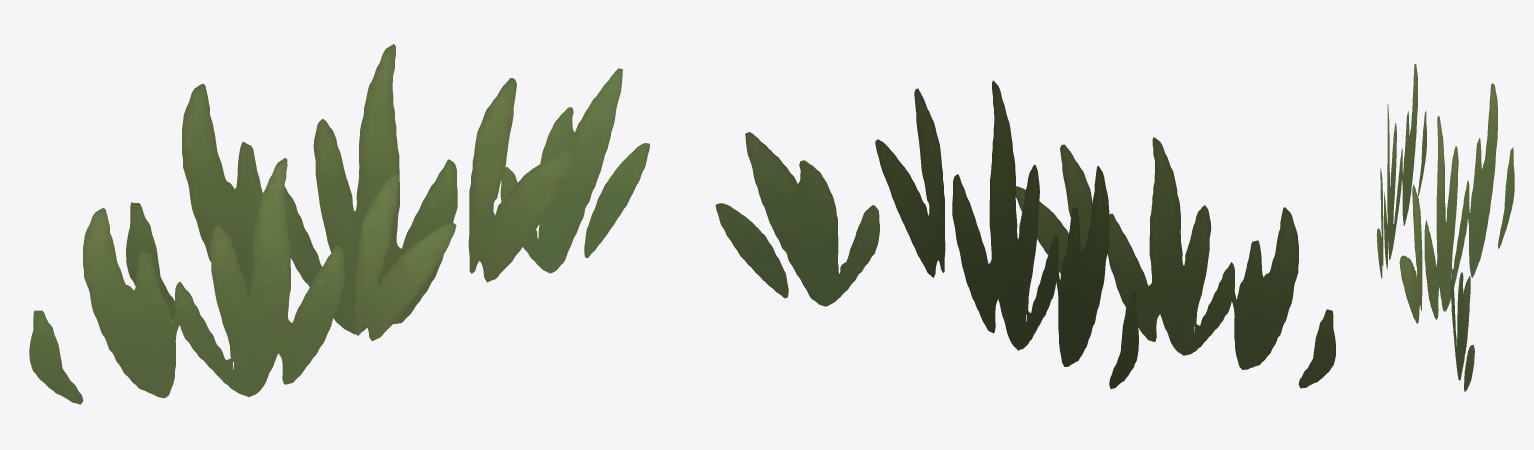
The model's file is pref_sm_garden_smallgrass02_lv2.fbx.
3 renders of one model, left to right at view 1: azimuth 30°, elevation 25°; view 2: azimuth 150°, elevation 25°; view 3: azimuth 270°, elevation 25°, orthographic. The views are drawn at different scales.
Visible parts, largest first — view 1: pref_sm_garden_smallgrass02_lv2; view 2: pref_sm_garden_smallgrass02_lv2; view 3: pref_sm_garden_smallgrass02_lv2.
Part boxes in pixels (x1=…): pref_sm_garden_smallgrass02_lv2: x1=29, y1=44, x2=649, y2=404; pref_sm_garden_smallgrass02_lv2: x1=715, y1=80, x2=1335, y2=388; pref_sm_garden_smallgrass02_lv2: x1=1376, y1=64, x2=1514, y2=391.
Bounding box in the file's own units: 1.8 × 0.7643 × 0.4535.
